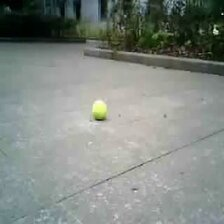tennis: (92, 99, 107, 120)
